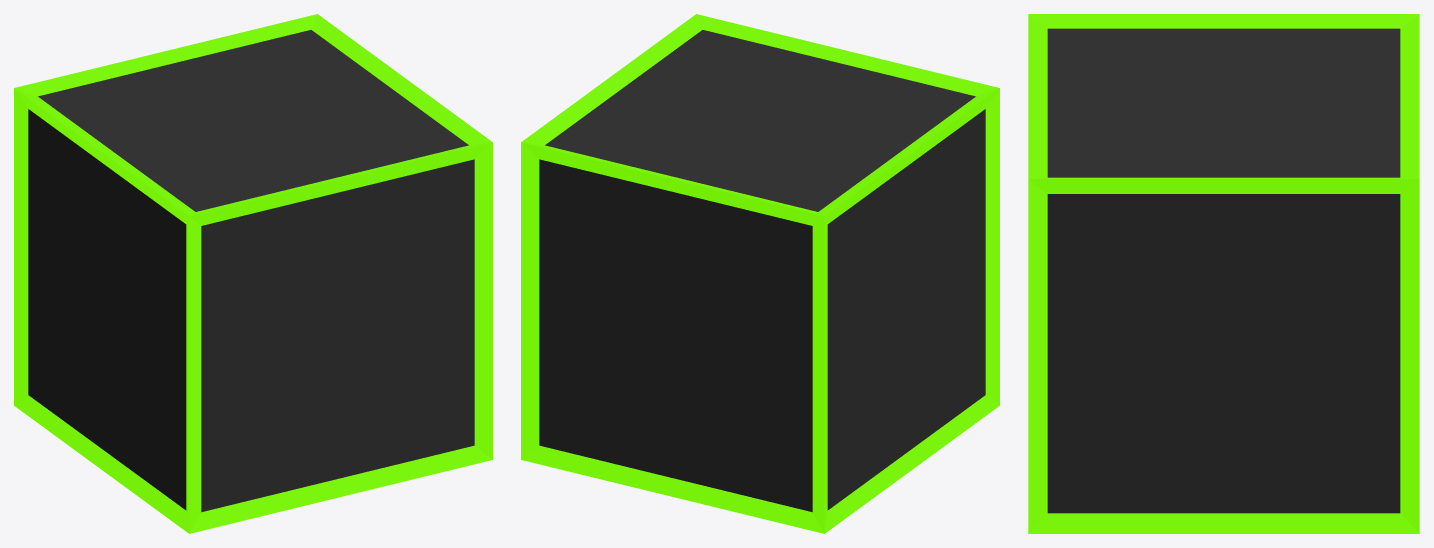
The model's file is Player2.fbx.
3 views of the same model, side by side, from view 1: azimuth 30°, elevation 25°; view 2: azimuth 150°, elevation 25°; view 3: azimuth 270°, elevation 25° (orthographic). The views are drawn at different scales.
Parts seen in each view (by area): view 1: Player2; view 2: Player2; view 3: Player2.
Boxes of the visible parts, x1=… form: Player2: x1=14, y1=14, x2=492, y2=533; Player2: x1=521, y1=14, x2=999, y2=533; Player2: x1=1028, y1=14, x2=1419, y2=533.
Bounding box in the file's own units: 46.31 × 46.31 × 46.31.
